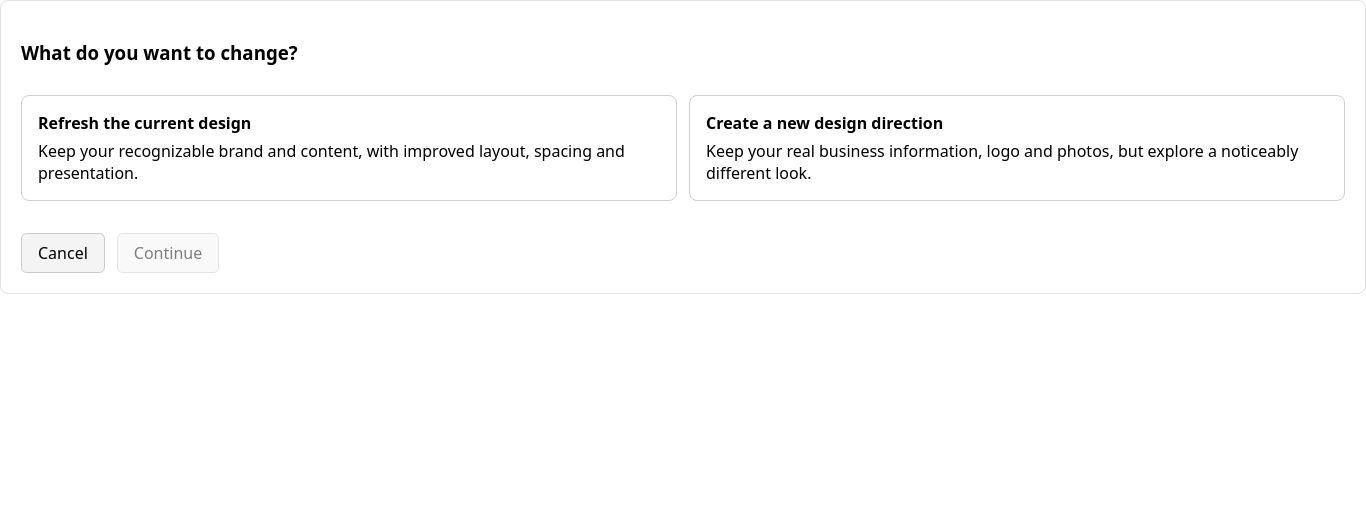
Scenario: RedesignFlow › communicates that real content is kept by default
Click the text "Refresh the current design" at (145, 123), box x1=38 y1=112 x2=251 y2=134
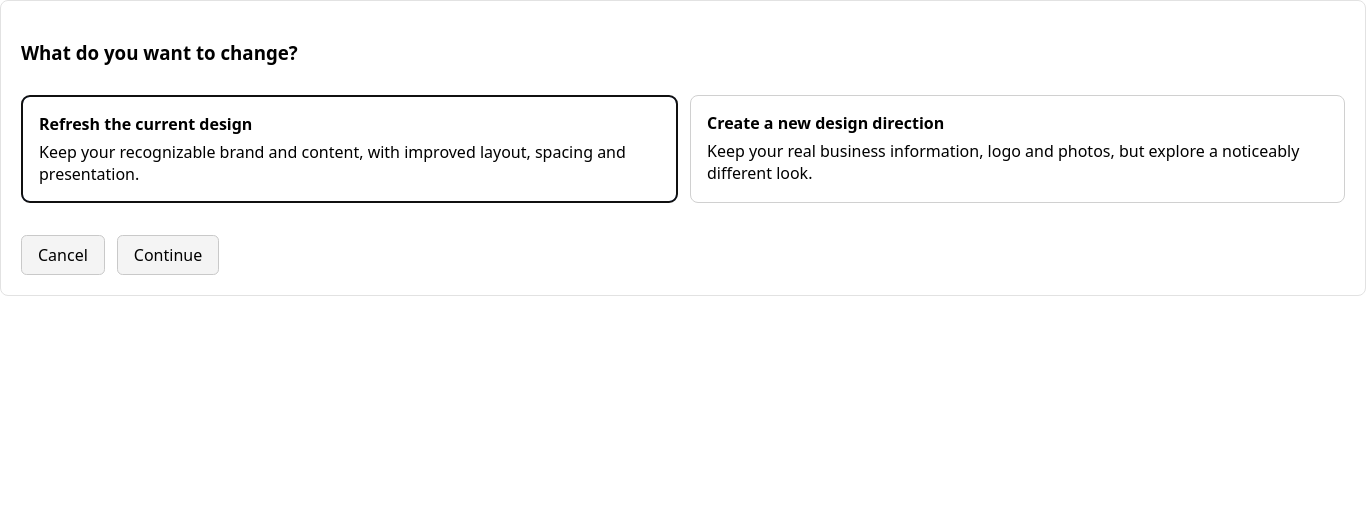
Click the button "Continue" at (168, 255), box x1=117 y1=235 x2=219 y2=275
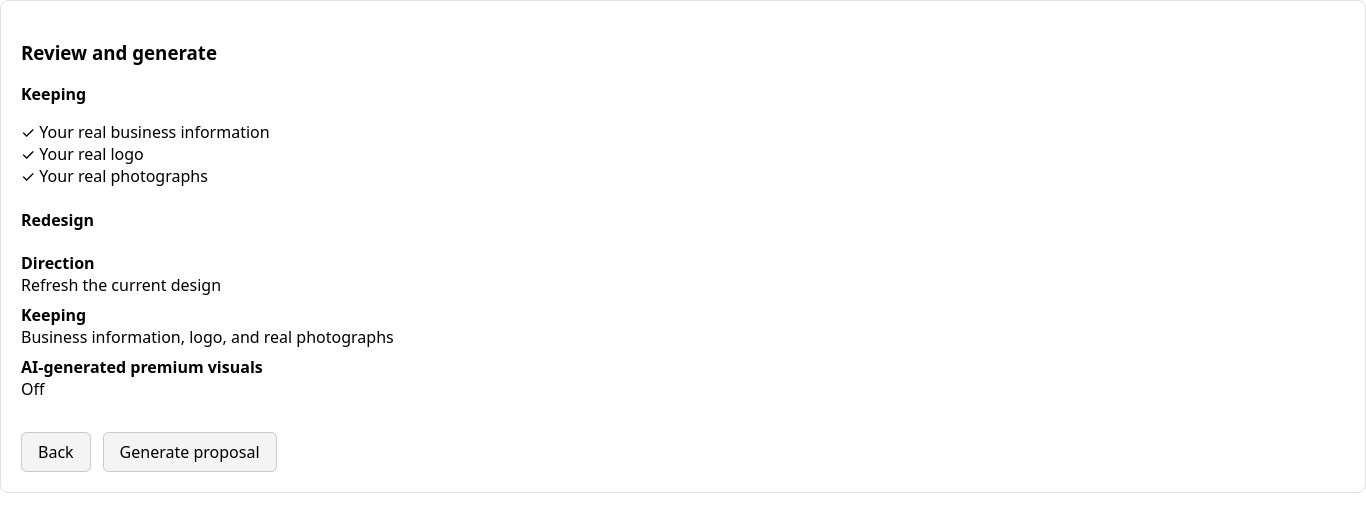
Expected: the list item "✓ Your real business information" is shown, x1=21 y1=121 x2=270 y2=143
Expected: the list item "✓ Your real logo" is shown, x1=21 y1=143 x2=144 y2=165
Expected: the list item "✓ Your real photographs" is shown, x1=21 y1=165 x2=208 y2=187
